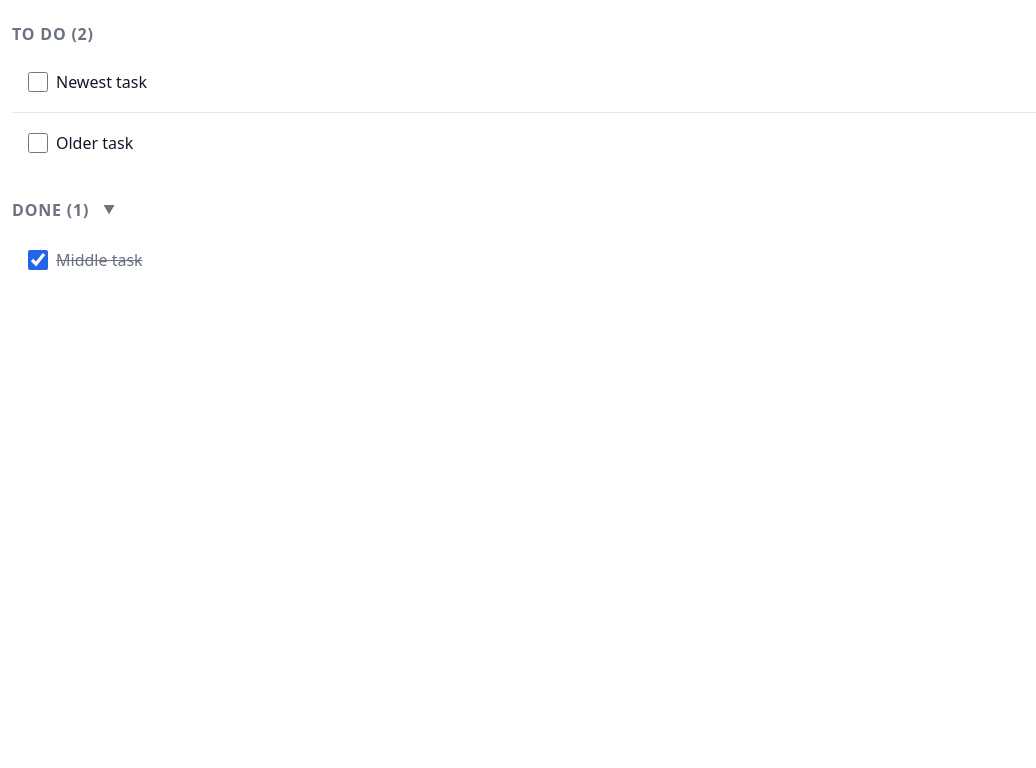
Test case: TodoList › shows error toast when toggle fails
Expected: the text "Older task" is shown, left=56, top=132, right=133, bottom=154
Click the checkbox named "Mark \"Older task\" as complete".
click(38, 143)  # box left=28, top=133, right=48, bottom=153
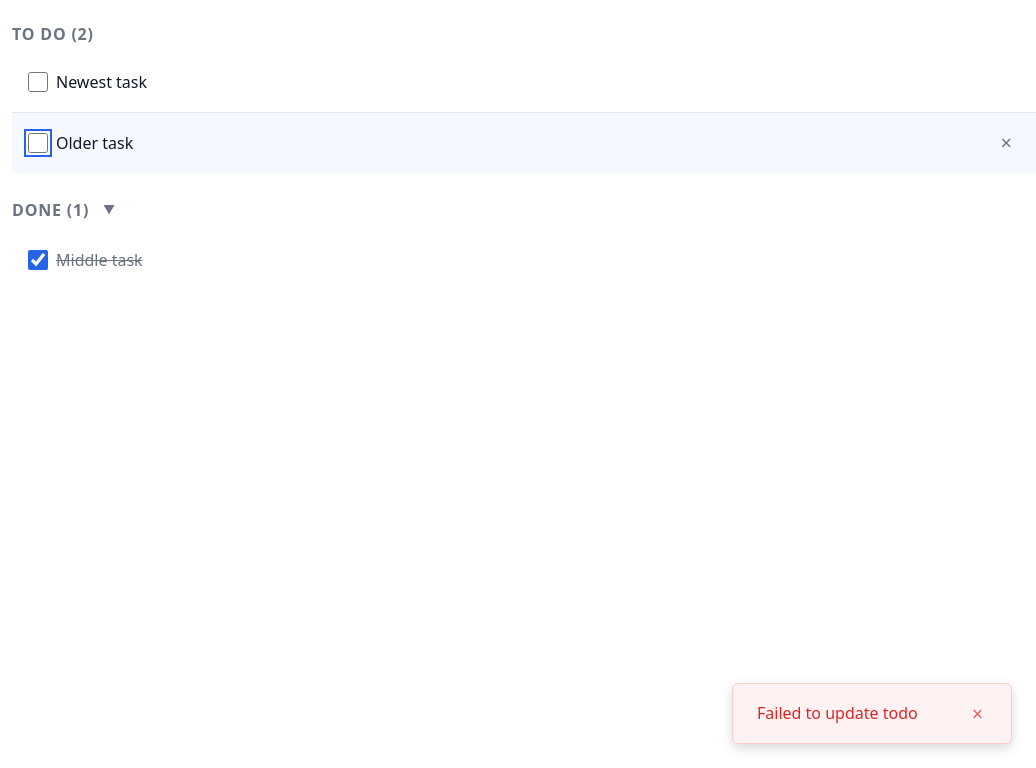
Now the text "Failed to update todo" is shown, box left=757, top=702, right=918, bottom=724
